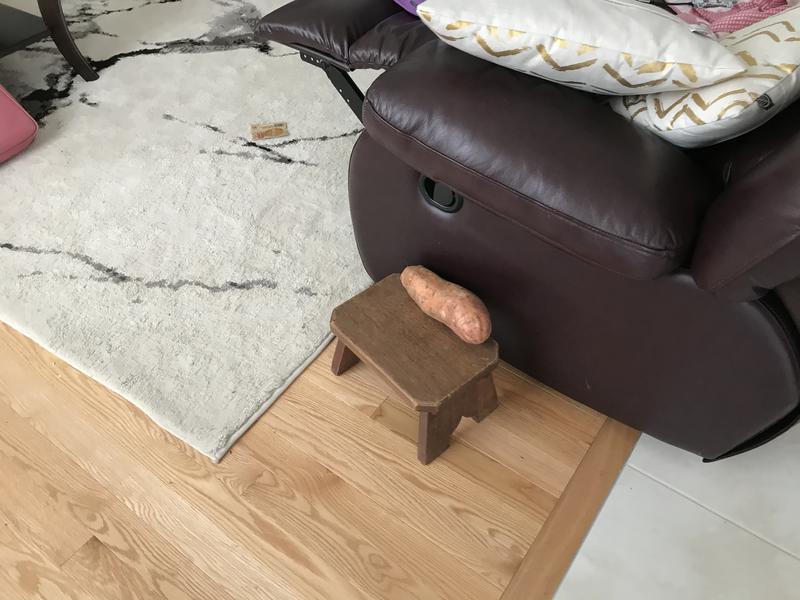sweet_potato: (388, 253, 499, 355)
